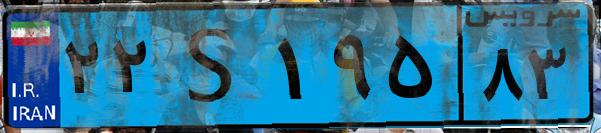1: (270, 28, 330, 110)
2: (57, 26, 110, 100), (110, 28, 158, 98)
3: (525, 38, 570, 115)
5: (385, 28, 445, 110)
8: (475, 38, 525, 113)
9: (330, 28, 385, 110)
S: (158, 12, 270, 120)
